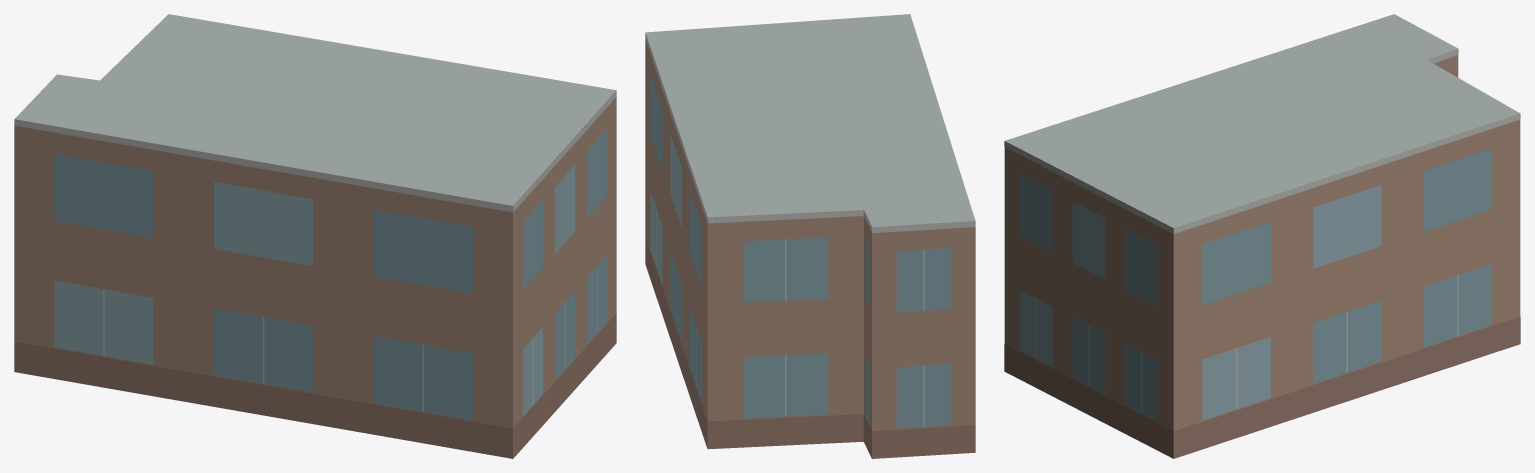
Rendered from survey-upis-32501344.glb.
3 views of the same model, side by side, from view 1: azimuth 30°, elevation 25°; view 2: azimuth 150°, elevation 25°; view 3: azimuth 270°, elevation 25° (orthographic). The views are drawn at different scales.
Parts seen in each view (by area): view 1: survey-upis-32501344.tmp; view 2: survey-upis-32501344.tmp; view 3: survey-upis-32501344.tmp.
Boxes of the visible parts, x1=… form: survey-upis-32501344.tmp: x1=14, y1=14, x2=616, y2=458; survey-upis-32501344.tmp: x1=645, y1=14, x2=975, y2=458; survey-upis-32501344.tmp: x1=1004, y1=14, x2=1520, y2=458.
Size of the model in its own units: 18.73 by 9.4 by 19.06.
